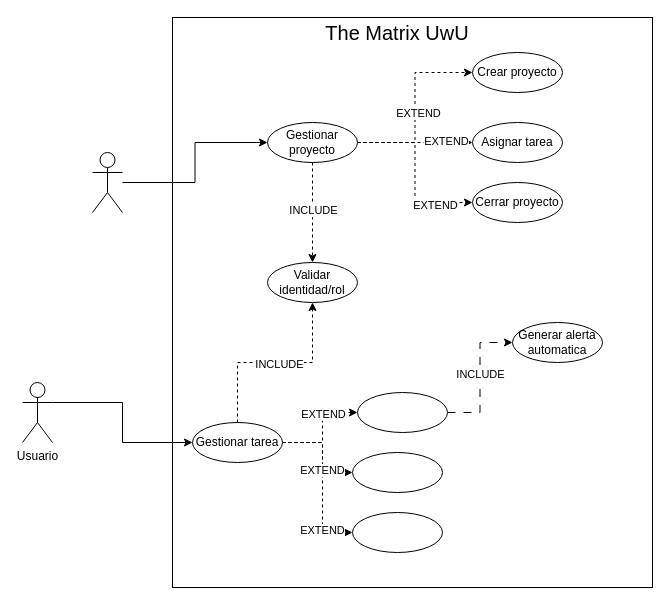
This 670x605 diagram has some shape labels left out. Here are the shapes that lost their labels. From the top down, the centre of each, then its label:
At pixel 107 182: "Jefe Proyecto".
At pixel 402 412: "Gestionar alerta".
At pixel 397 472: "Registrar avance".
At pixel 397 532: "Cerrar tarea".
